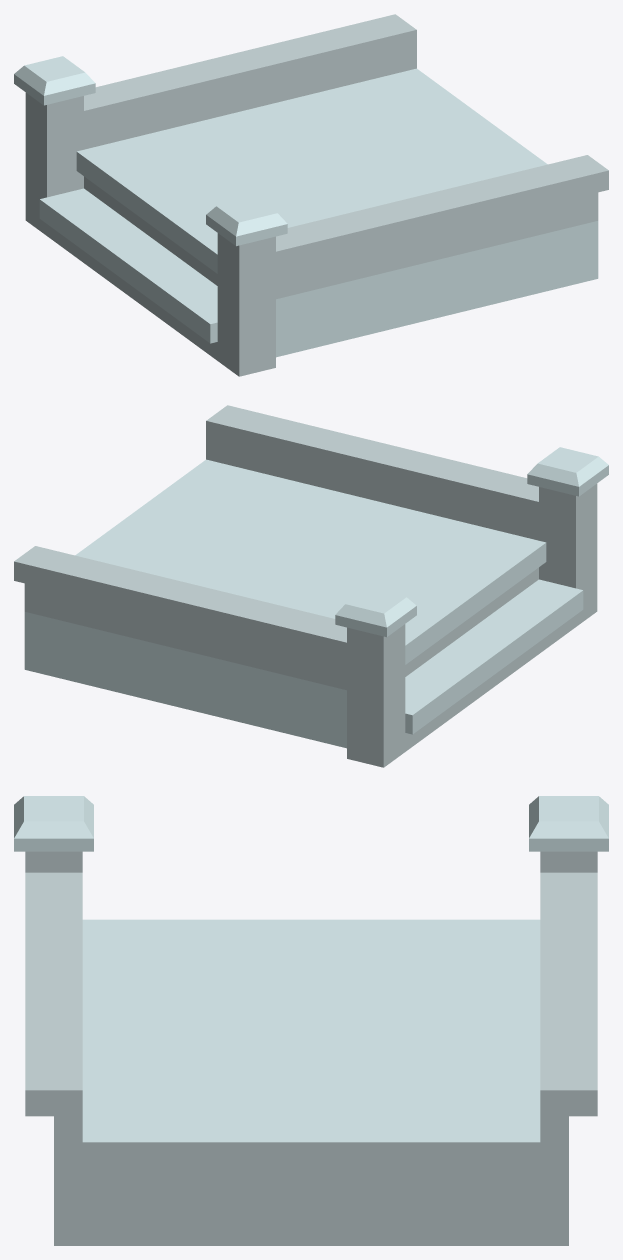
Rendered from bridge_side_stone.glb.
The picture shows the model from 3 angles, top to bottom: view 1: azimuth 30°, elevation 25°; view 2: azimuth 150°, elevation 25°; view 3: azimuth 270°, elevation 25°; orthographic projection. The views are drawn at different scales.
Visible parts, largest first — view 1: bridge_side_stone; view 2: bridge_side_stone; view 3: bridge_side_stone.
Part boxes in pixels (bbox=[...]): bridge_side_stone: bbox=[14, 14, 608, 376]; bridge_side_stone: bbox=[14, 405, 608, 767]; bridge_side_stone: bbox=[14, 796, 608, 1245].
Bounding box in the file's own units: 1.02 × 0.4 × 1.04.
